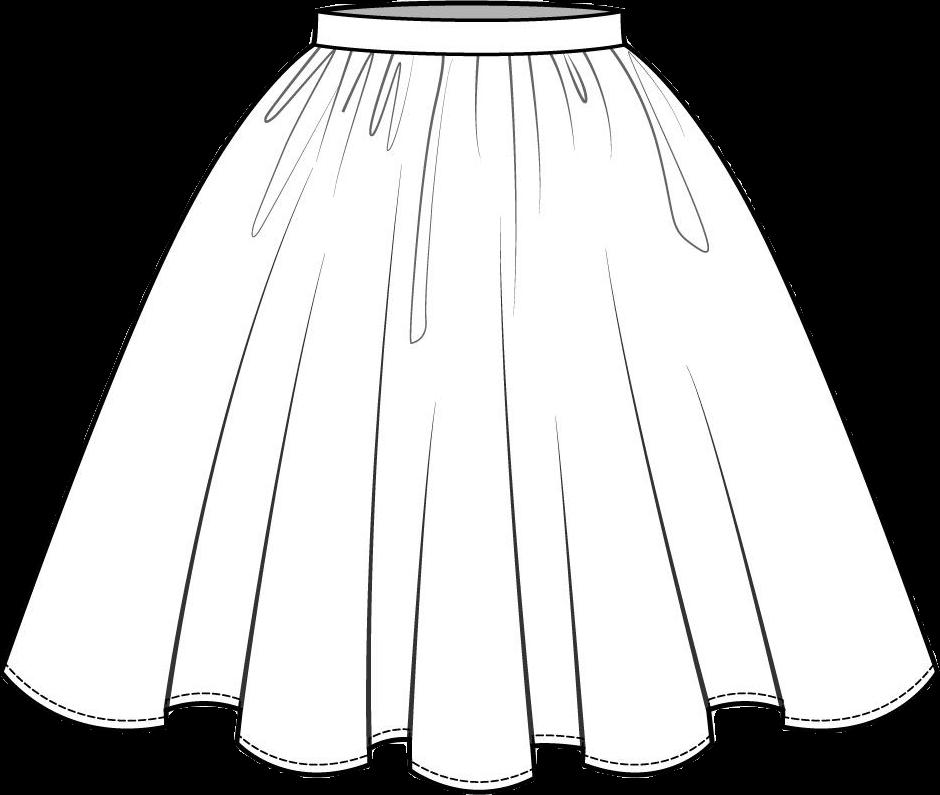Hemline: (0, 663, 939, 794)
Waistline: (309, 37, 629, 65), (315, 5, 619, 26)
